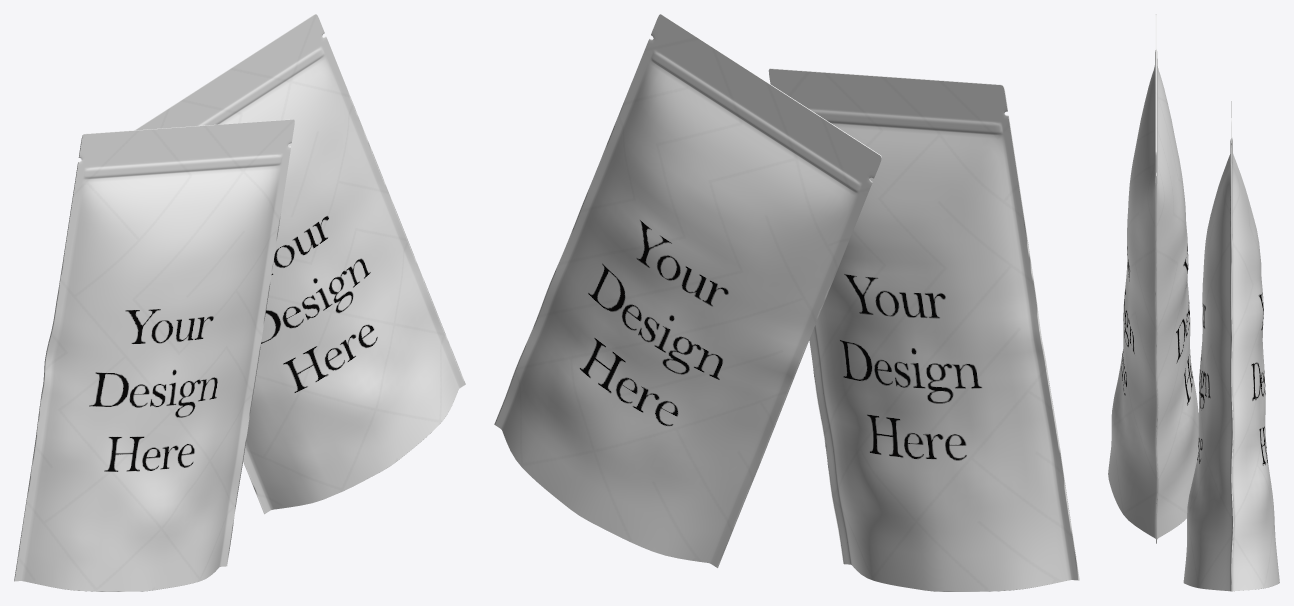
File: Zip Angle-2.glb
3 views of the same model, side by side, from view 1: azimuth 30°, elevation 25°; view 2: azimuth 150°, elevation 25°; view 3: azimuth 270°, elevation 25° (orthographic). The views are drawn at different scales.
Parts seen in each view (by area): view 1: ATR001_Doypack_0, ATR001_Doypack_0.001; view 2: ATR001_Doypack_0.001, ATR001_Doypack_0; view 3: ATR001_Doypack_0, ATR001_Doypack_0.001.
Boxes of the visible parts, x1,y1,x2,y2 form: ATR001_Doypack_0: (14,119,294,591); ATR001_Doypack_0.001: (135,14,465,514); ATR001_Doypack_0.001: (494,14,881,567); ATR001_Doypack_0: (768,68,1079,591); ATR001_Doypack_0: (1108,14,1198,543); ATR001_Doypack_0.001: (1183,101,1279,591).
Bounding box in the file's own units: 0.3644 × 0.3506 × 0.1123.
Materials: 1 (1 with a texture image).
